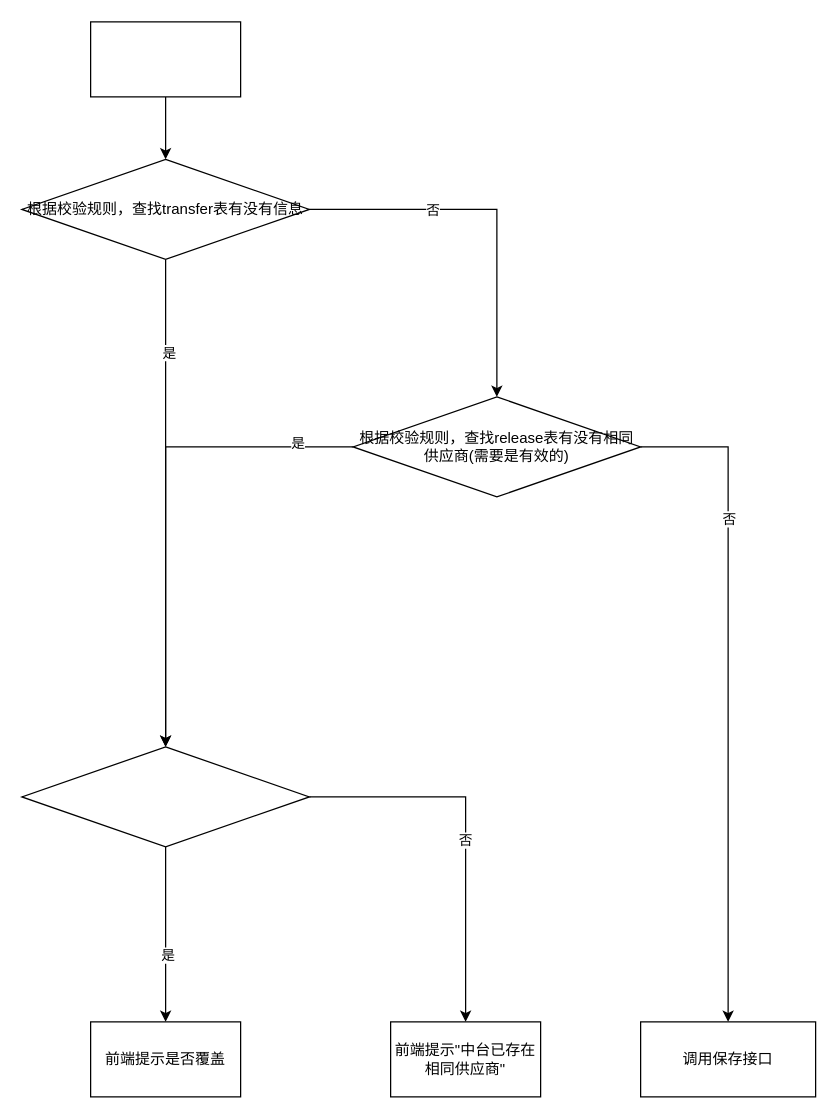
Image size: 838x1119. Some labels were removed from this diagram. The shapes that lost their labels are listed below. From the top down, each one's centre as x and y in pixels, then its label:
At pixel 165 59: "编辑待建档和草稿客户资料".
At pixel 165 796: "有没有ysb_customer_id".
